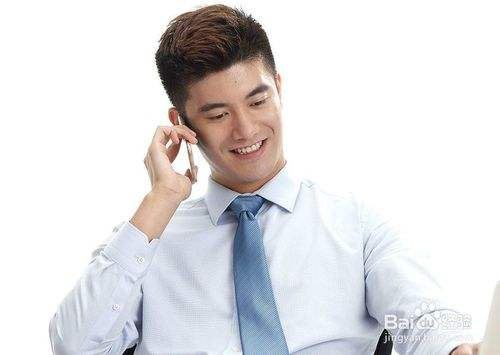phone: (162, 105, 201, 180)
talk: (130, 66, 285, 231)
